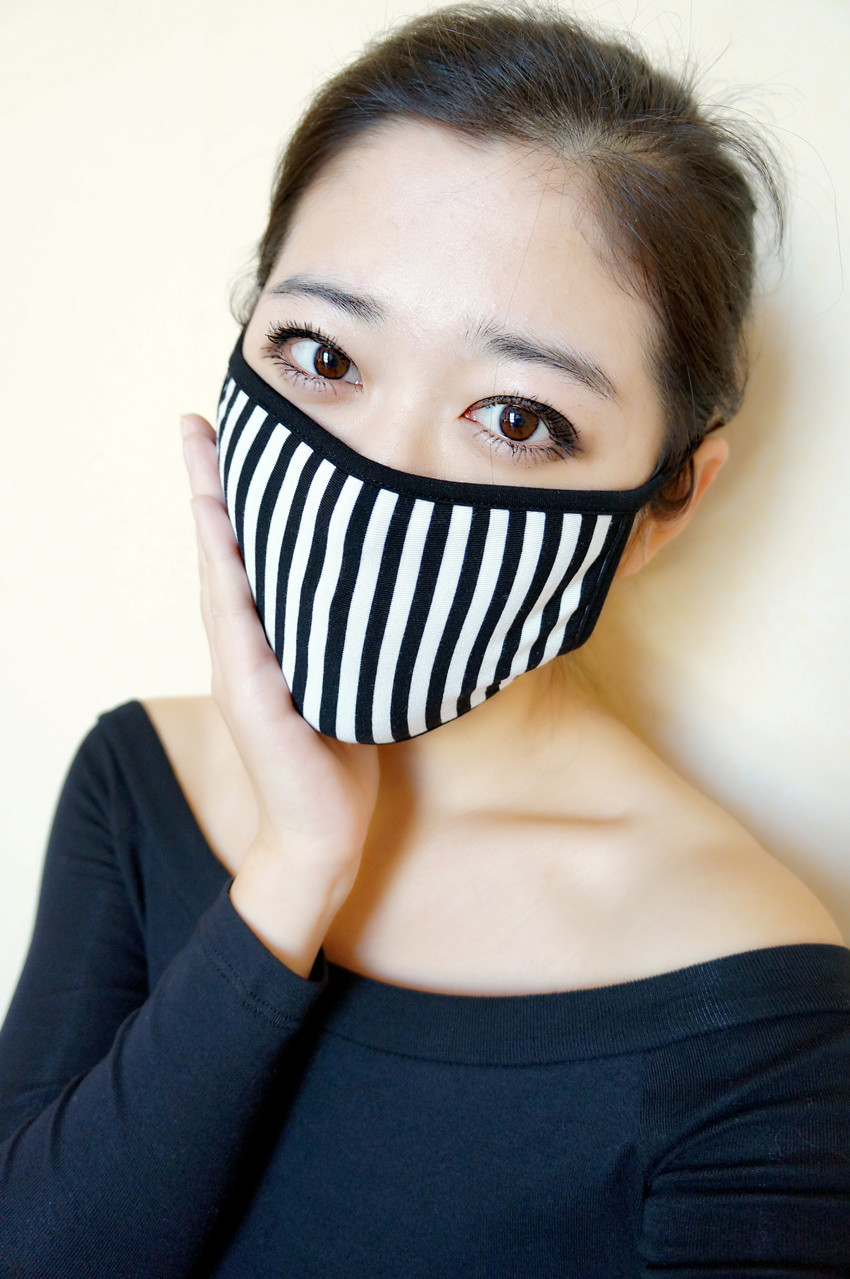face_mask: (213, 110, 626, 743)
